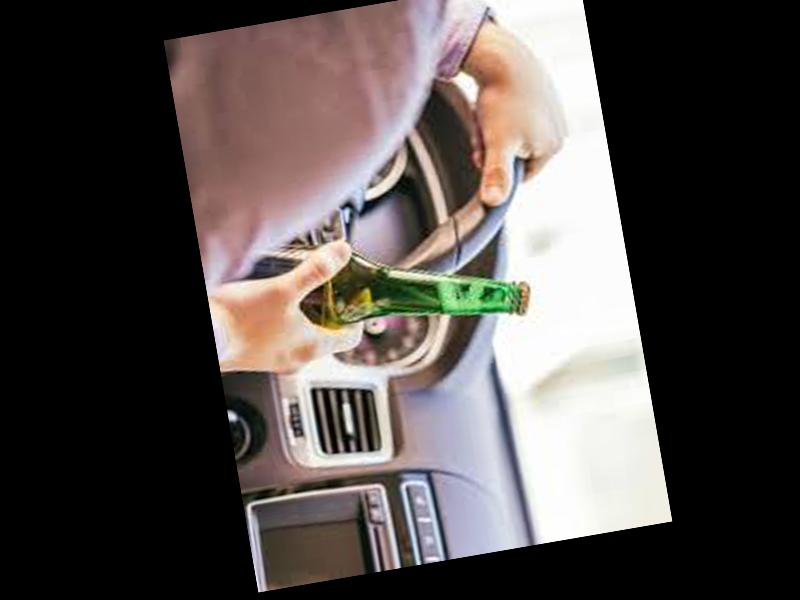Beer: (213, 200, 536, 366)
